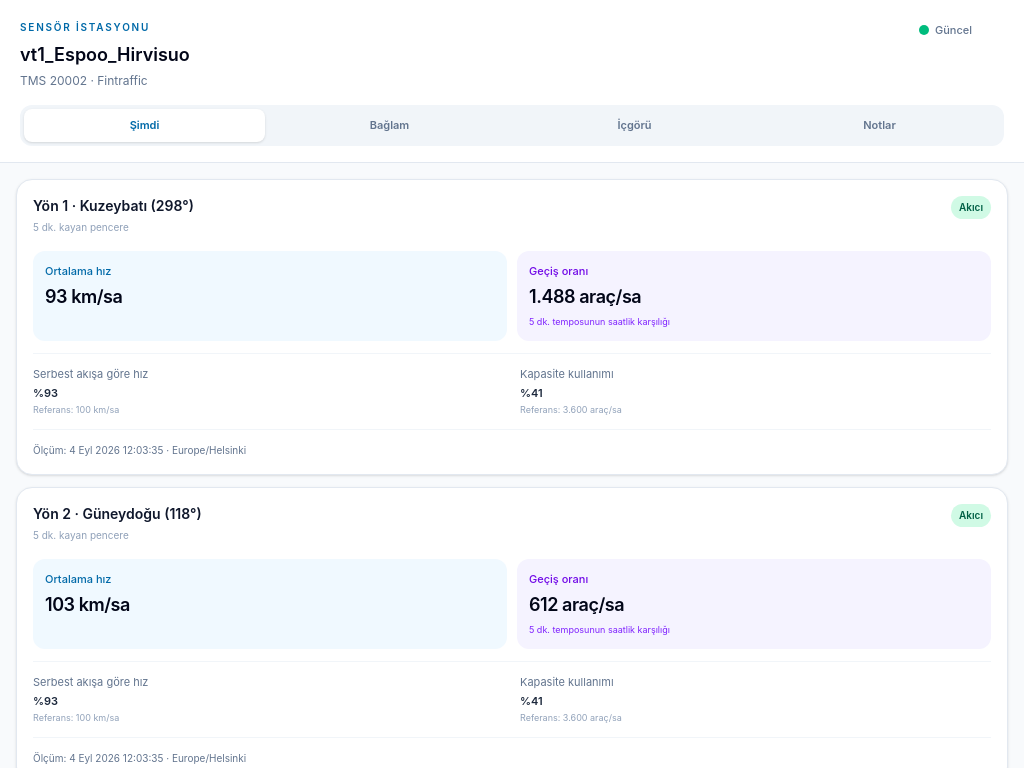
Scenario: StationDetailPanel › keeps feature content in explicit accessible tabs
This screenshot has width=1024, height=768.
Click the tab "Bağlam": (390, 125) [269,109,510,142]
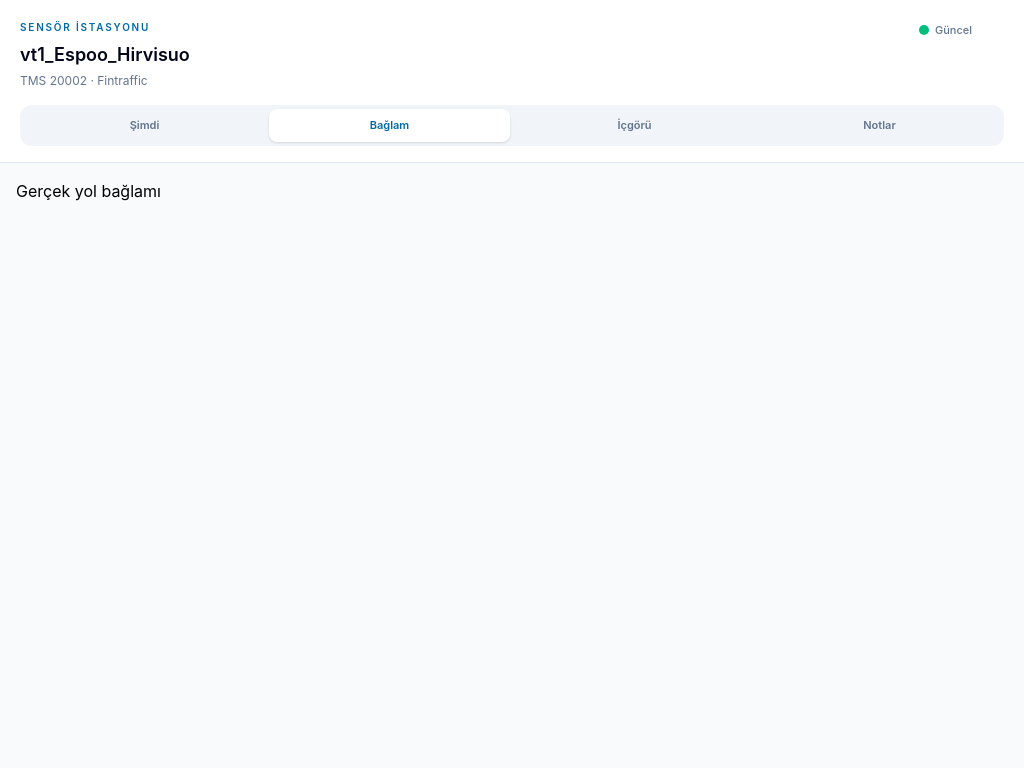
Expected: the text "Baseline sonucu" is not shown
Expected: the text "Gerçek yol bağlamı" is shown, [16,180,161,200]
Click the tab "İçgörü": (634, 125) [514,109,755,142]
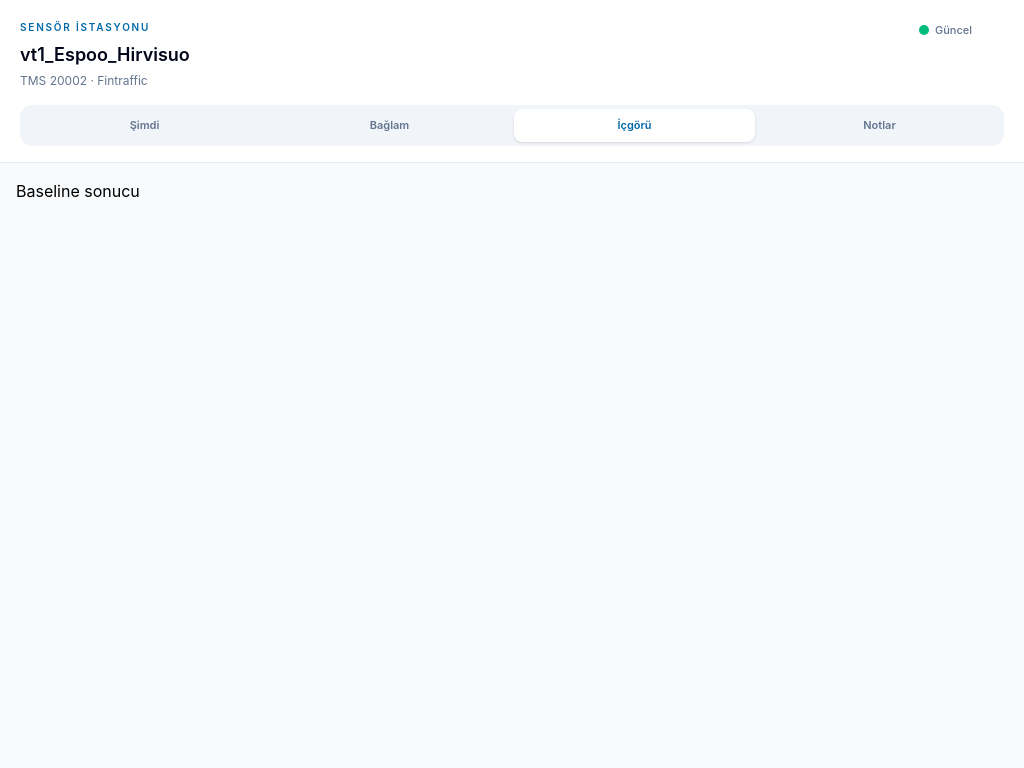
Expected: the text "Baseline sonucu" is shown, [16,180,140,200]
Click the tab "Notlar": (880, 125) [759,109,1000,142]
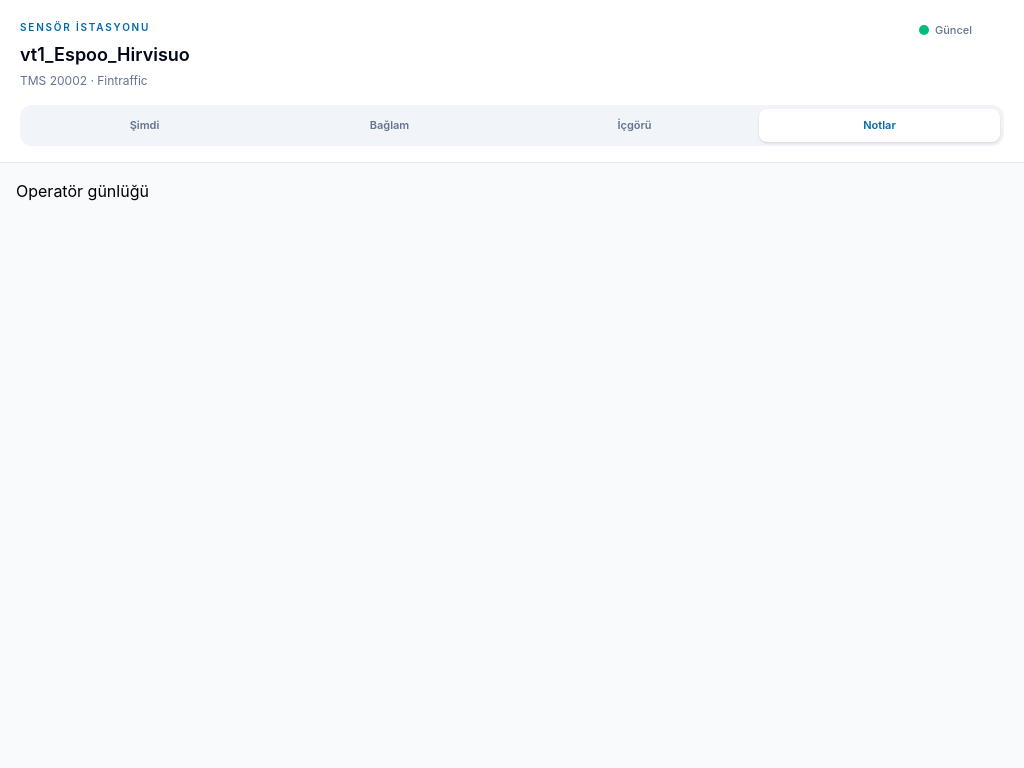
Expected: the text "Operatör günlüğü" is shown, [16,180,149,200]
